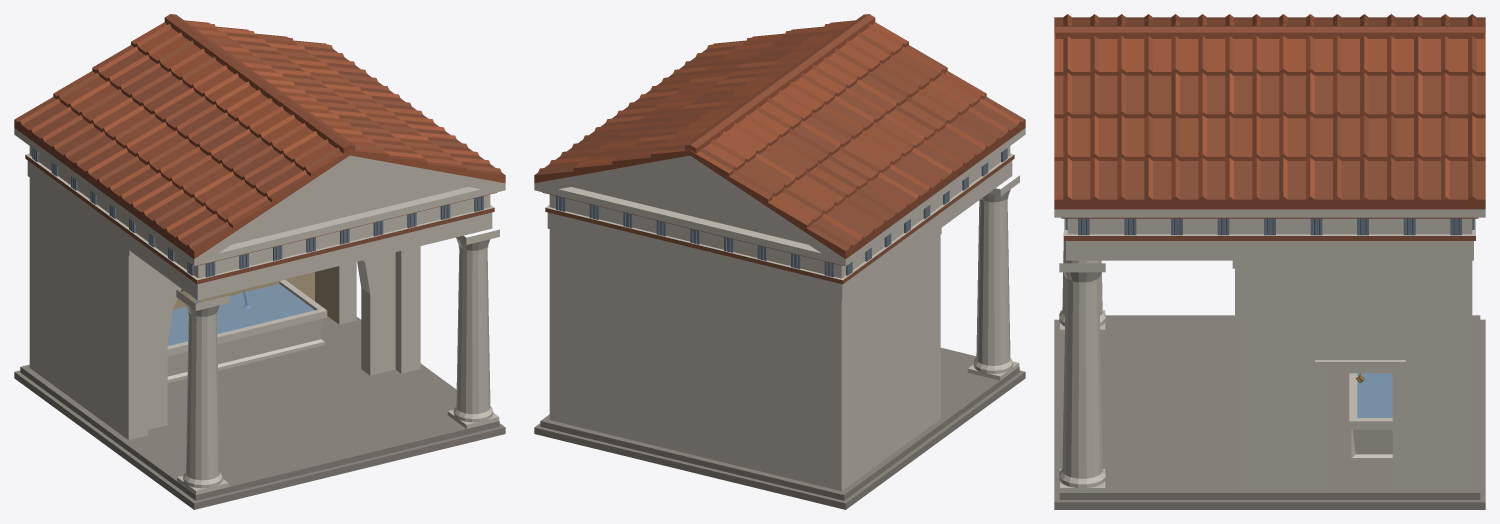
The model's file is fountain-house-cbda2f.glb.
3 views of the same model, side by side, from view 1: azimuth 30°, elevation 25°; view 2: azimuth 150°, elevation 25°; view 3: azimuth 270°, elevation 25° (orthographic). The views are drawn at different scales.
Parts seen in each view (by area): view 1: fountain-house-body, fountain-house-water; view 2: fountain-house-body; view 3: fountain-house-body, fountain-house-water.
Boxes of the visible parts, x1=… form: fountain-house-body: x1=14, y1=14, x2=505, y2=509; fountain-house-water: x1=167, y1=284, x2=314, y2=345; fountain-house-body: x1=534, y1=14, x2=1025, y2=509; fountain-house-body: x1=1054, y1=14, x2=1485, y2=509; fountain-house-water: x1=1357, y1=373, x2=1392, y2=417.
Size of the model in its own units: 8 by 8.02 by 8.
